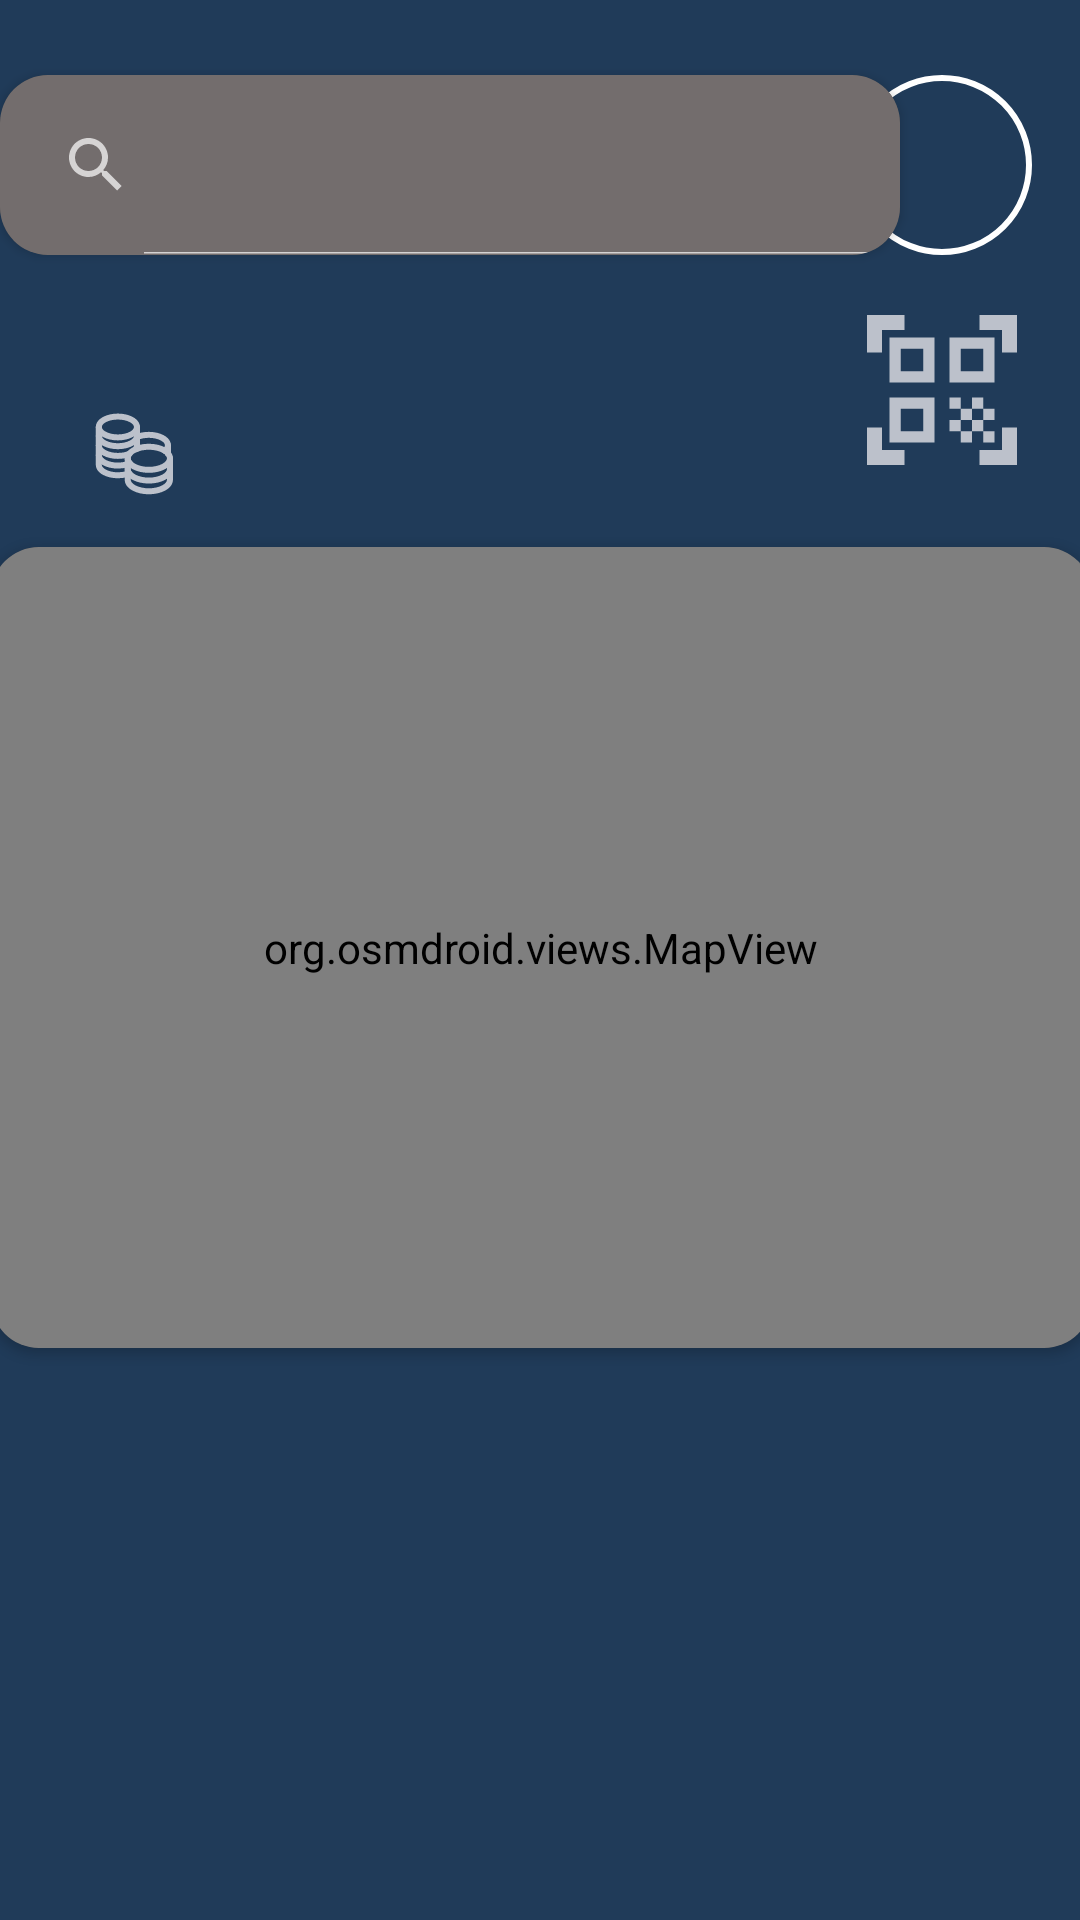

Screen size 1080w x 1920h. Icon name, then its box in pixels as detection(x1, y1, x2, y2):
coins: detection(95, 413, 173, 495)
qr scanner: detection(867, 315, 1017, 465)
